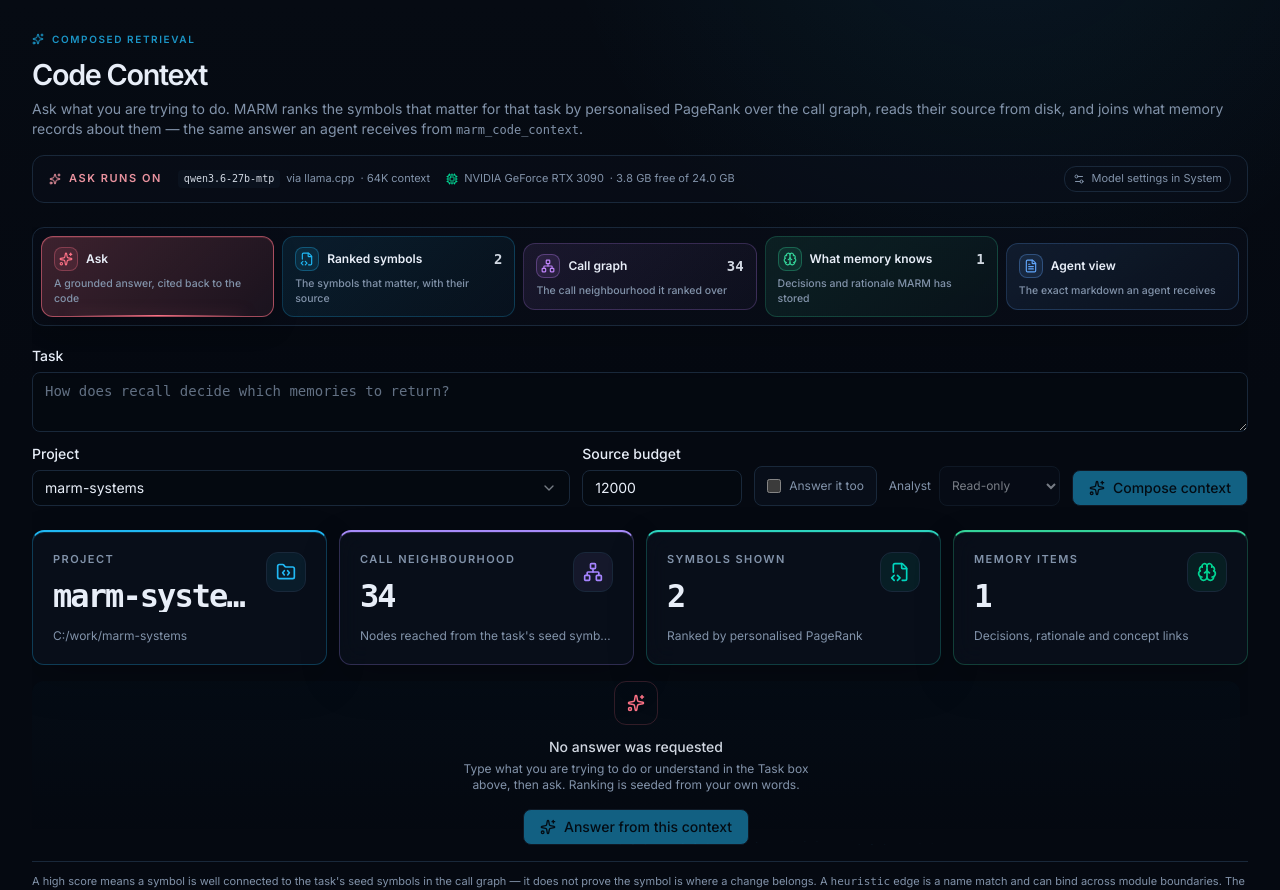
Test case: CodeContextPage › filters symbols by name or file
Click the tab "Ranked symbols 2 The symbols that matter, with their source": (399,277) [282, 236, 515, 317]
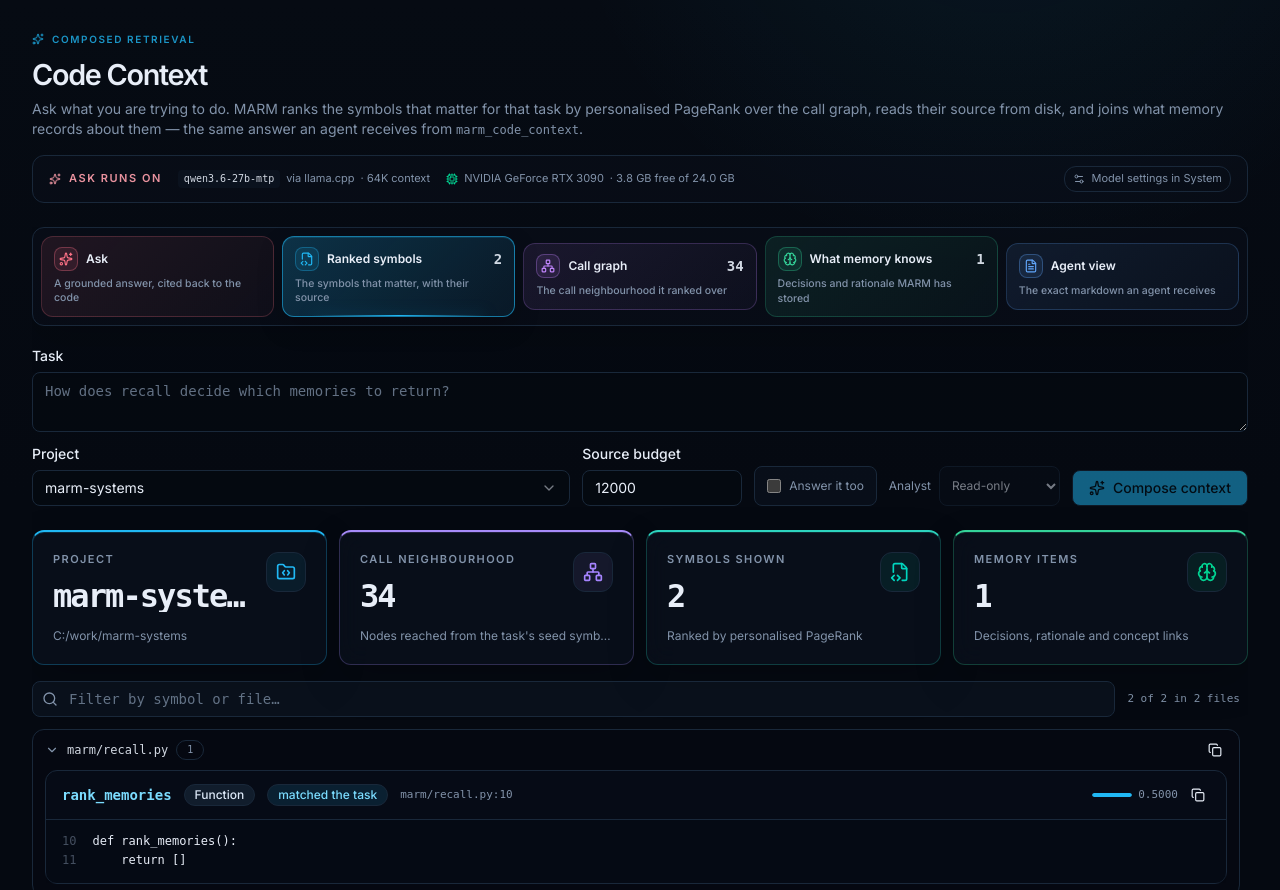
In the field named "Filter symbols": (574,699) [32, 681, 1115, 717], type "terms"
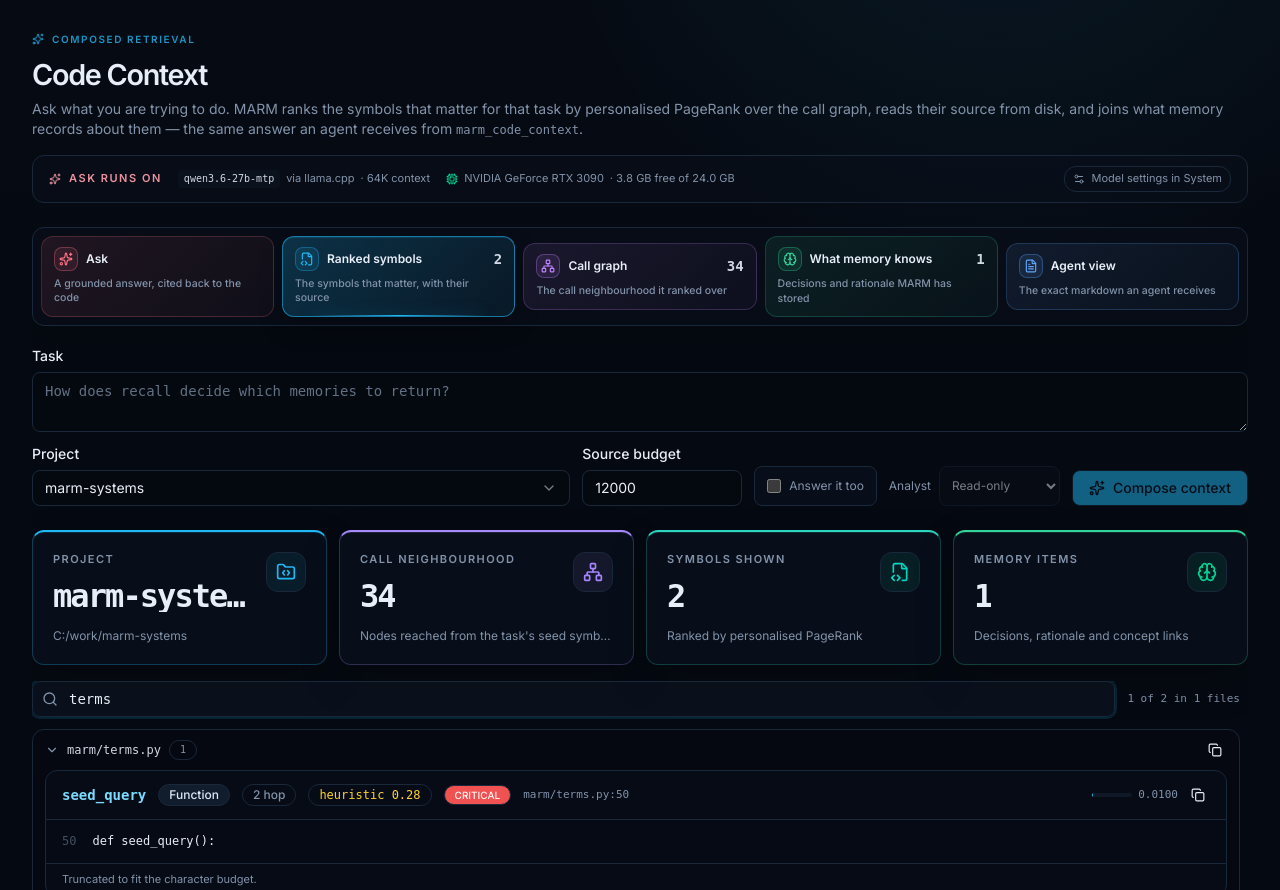
Expected: the text titled "marm/terms.py" is shown, [67, 742, 161, 758]
Expected: the button titled "marm/recall.py" is gone
